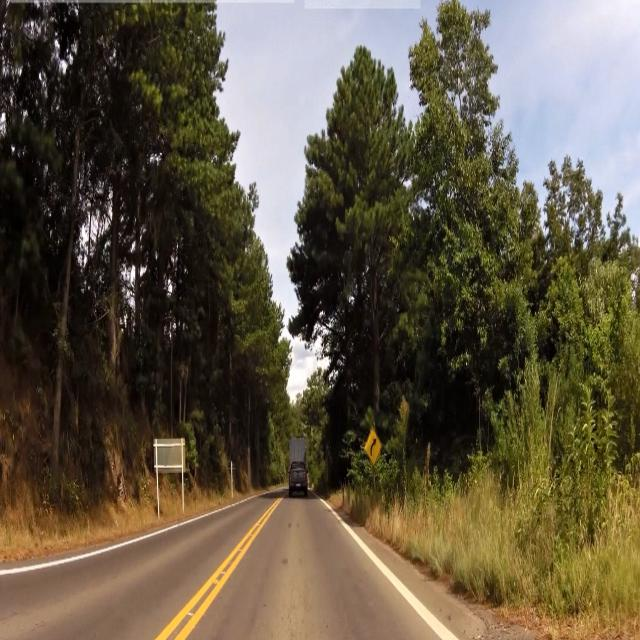A-2b: (366, 431, 380, 466)
